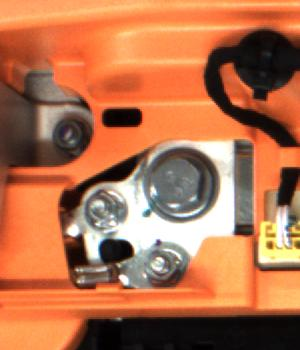nut_b: (143, 149, 214, 219)
